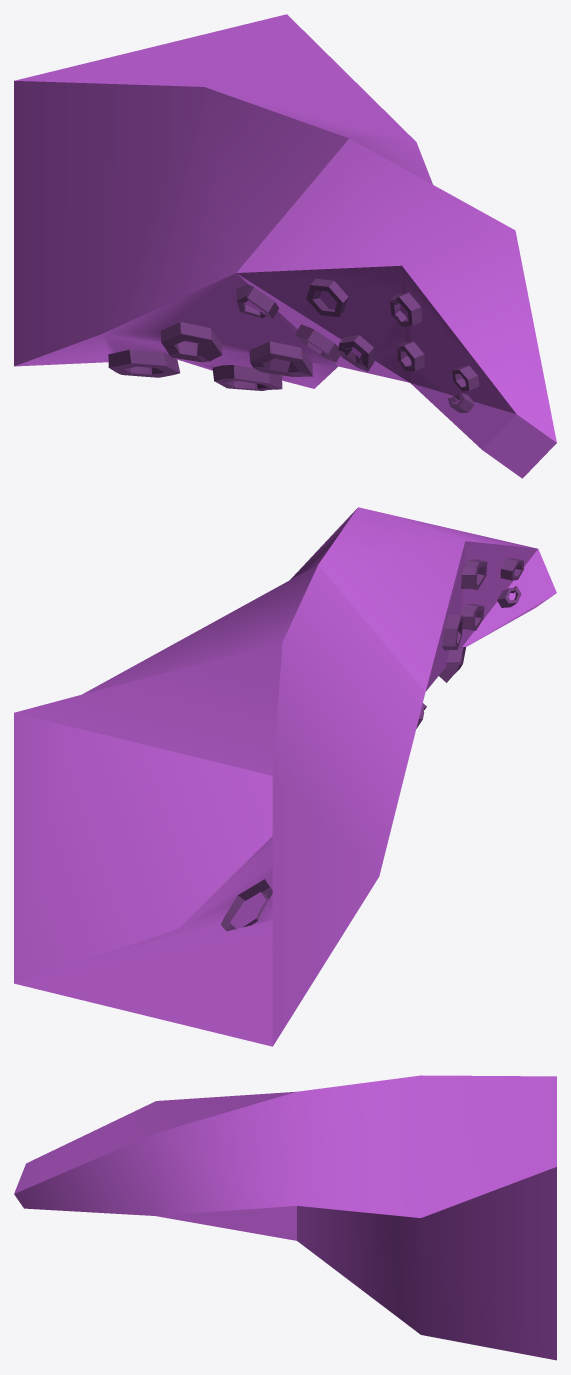
Rendered from EN_Tentacle_01.fbx.
The picture shows the model from 3 angles, top to bottom: view 1: azimuth 30°, elevation 25°; view 2: azimuth 150°, elevation 25°; view 3: azimuth 270°, elevation 25°; orthographic projection. The views are drawn at different scales.
Parts seen in each view (by area): view 1: pCube2; view 2: pCube2; view 3: pCube2.
Boxes of the visible parts, bbox=[...] form: pCube2: bbox=[14, 14, 556, 478]; pCube2: bbox=[14, 507, 556, 1046]; pCube2: bbox=[14, 1075, 556, 1360].
Bounding box in the file's own units: 0.5826 × 0.5902 × 1.29.
